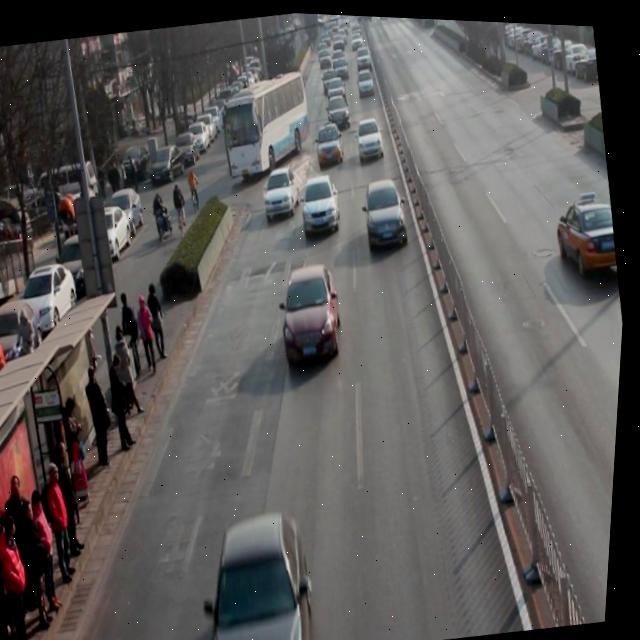car: (204, 506, 332, 640), (277, 259, 355, 371), (554, 191, 624, 276), (362, 176, 417, 252), (300, 171, 350, 239), (262, 164, 310, 223), (315, 120, 352, 171), (357, 115, 391, 164), (327, 92, 357, 134)
van: (217, 64, 322, 182)
